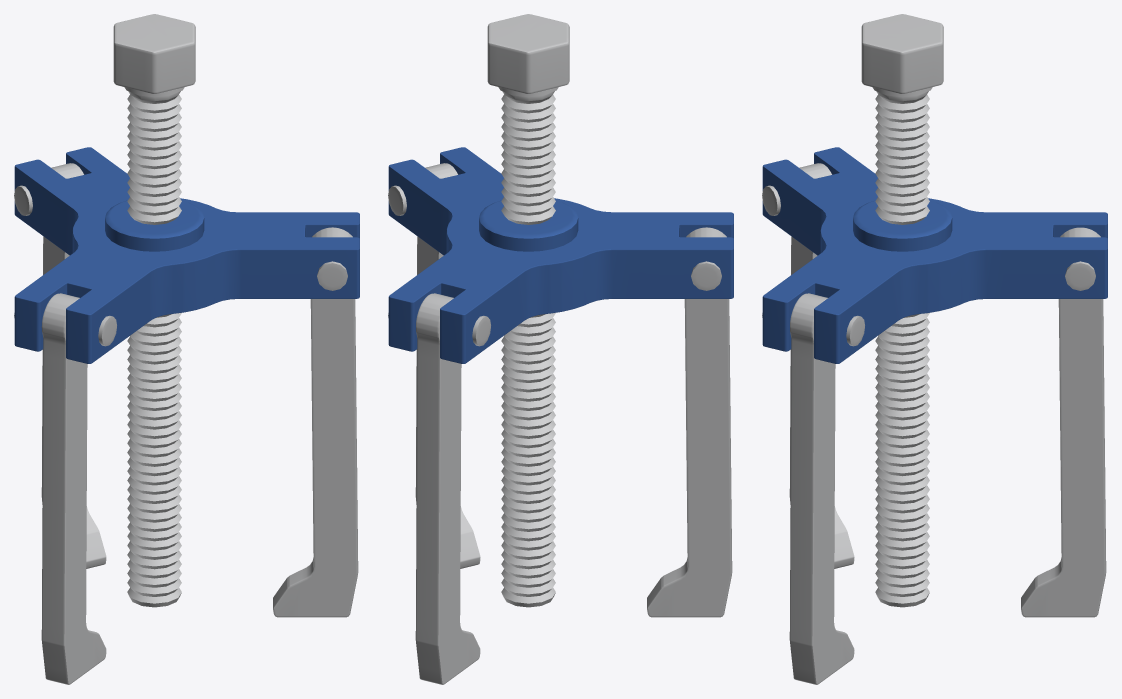
File: saca-polias.glb
3 views of the same model, side by side, from view 1: azimuth 30°, elevation 25°; view 2: azimuth 150°, elevation 25°; view 3: azimuth 270°, elevation 25° (orthographic).
Visible parts, largest first — view 1: cruzeta-corpo, garras-articuladas, fuso-central; view 2: cruzeta-corpo, garras-articuladas, fuso-central; view 3: cruzeta-corpo, garras-articuladas, fuso-central.
Part boxes in pixels (box(x1,y1,x2,y2)): cruzeta-corpo: box(14, 147, 359, 363); garras-articuladas: box(41, 163, 358, 684); fuso-central: box(113, 14, 195, 607); cruzeta-corpo: box(388, 147, 733, 363); garras-articuladas: box(415, 163, 732, 684); fuso-central: box(487, 14, 569, 607); cruzeta-corpo: box(762, 147, 1107, 363); garras-articuladas: box(789, 163, 1106, 684); fuso-central: box(861, 14, 943, 607).
Bounding box in the file's own units: 0.1161 × 0.187 × 0.1011.
